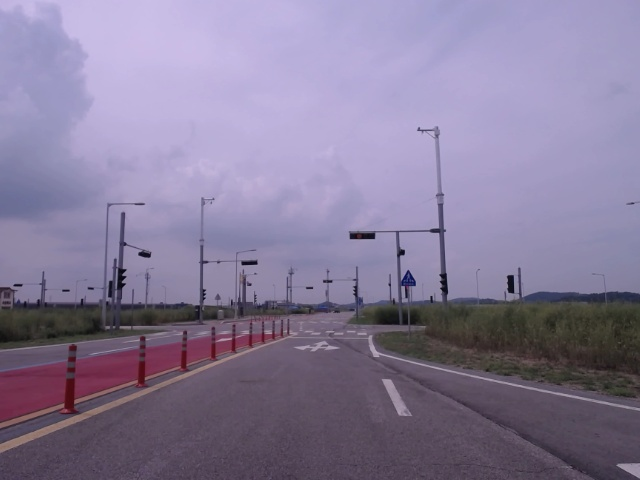orange_4: (349, 232, 377, 240), (321, 278, 334, 285)
